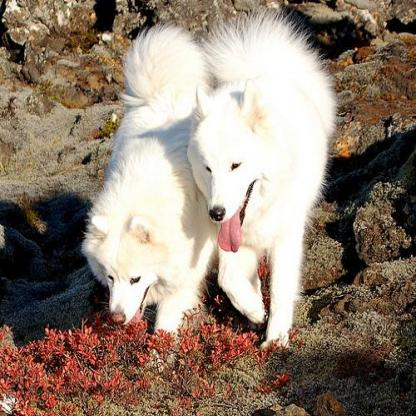Samoyed: (185, 13, 334, 349), (82, 25, 223, 335)
